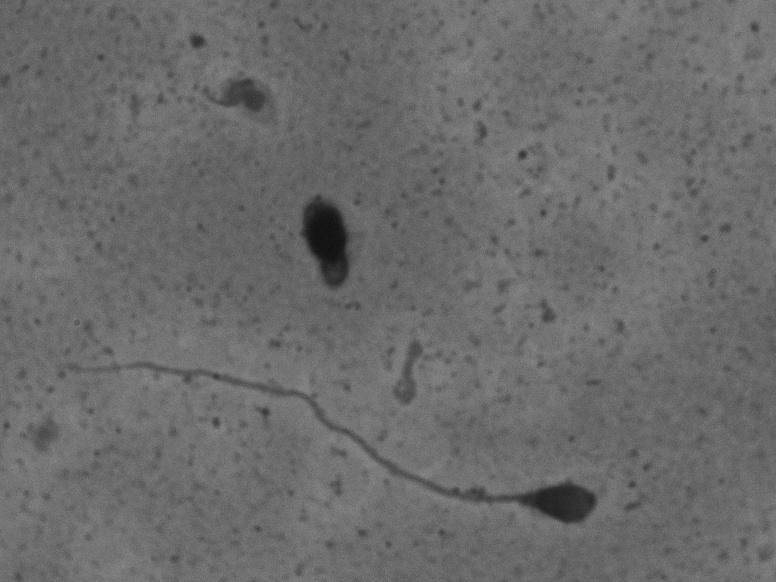Normal: (39, 341, 659, 529)
